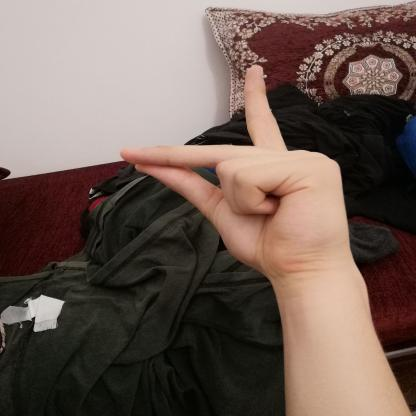TAA: (107, 54, 367, 284)
